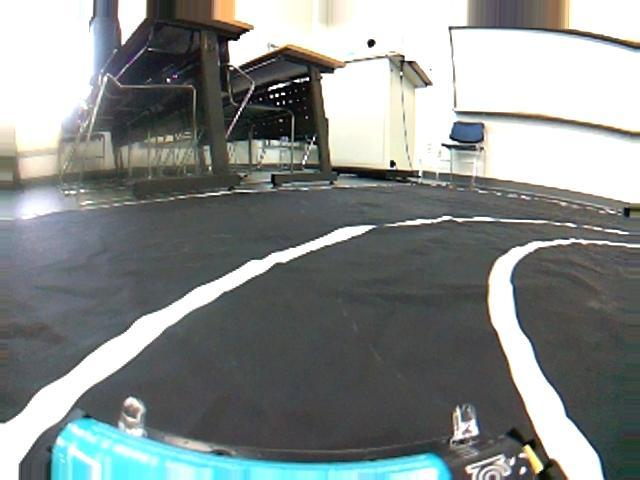straight: (3, 236, 640, 480)
